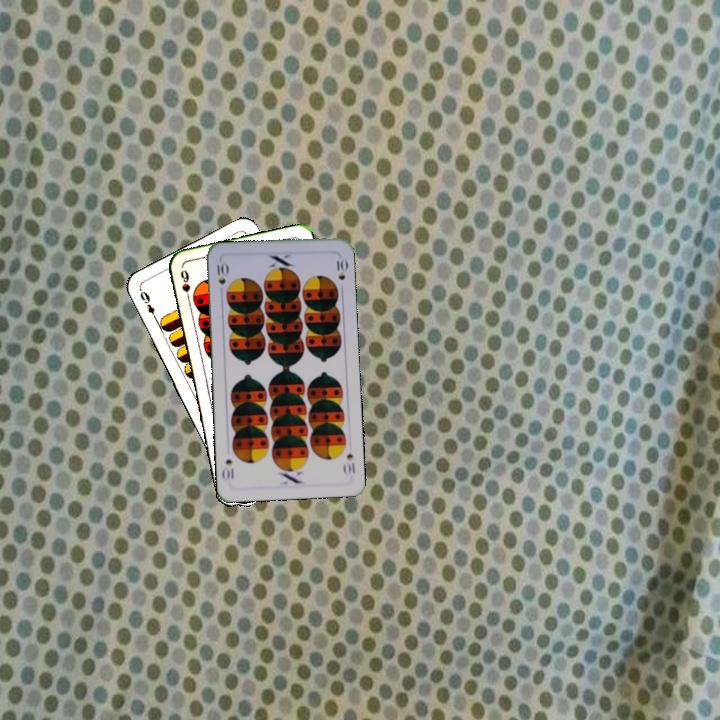E9: (136, 286, 160, 323)
S10: (340, 449, 358, 477), (213, 258, 229, 287)
S9: (176, 266, 193, 305)
